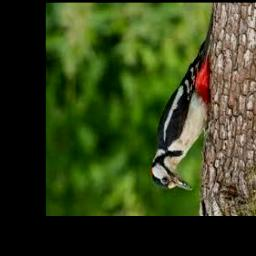Woodpecker: (150, 8, 214, 190)
